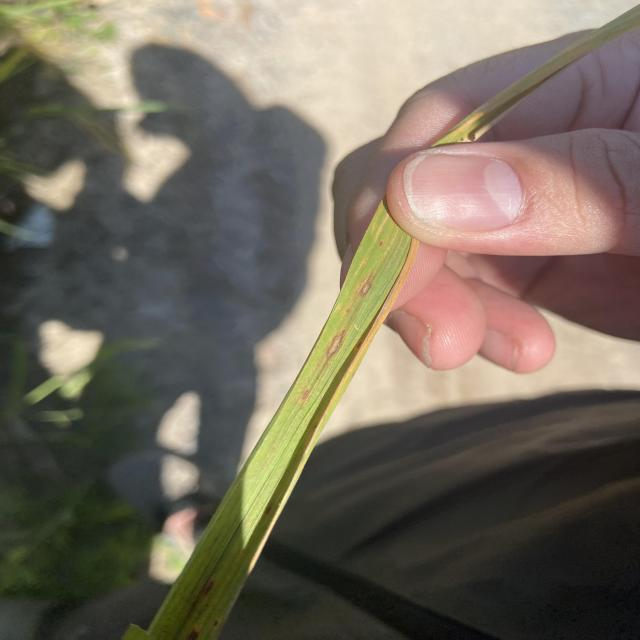Dao on: (324, 330, 348, 358), (362, 277, 372, 293), (203, 580, 214, 594)
